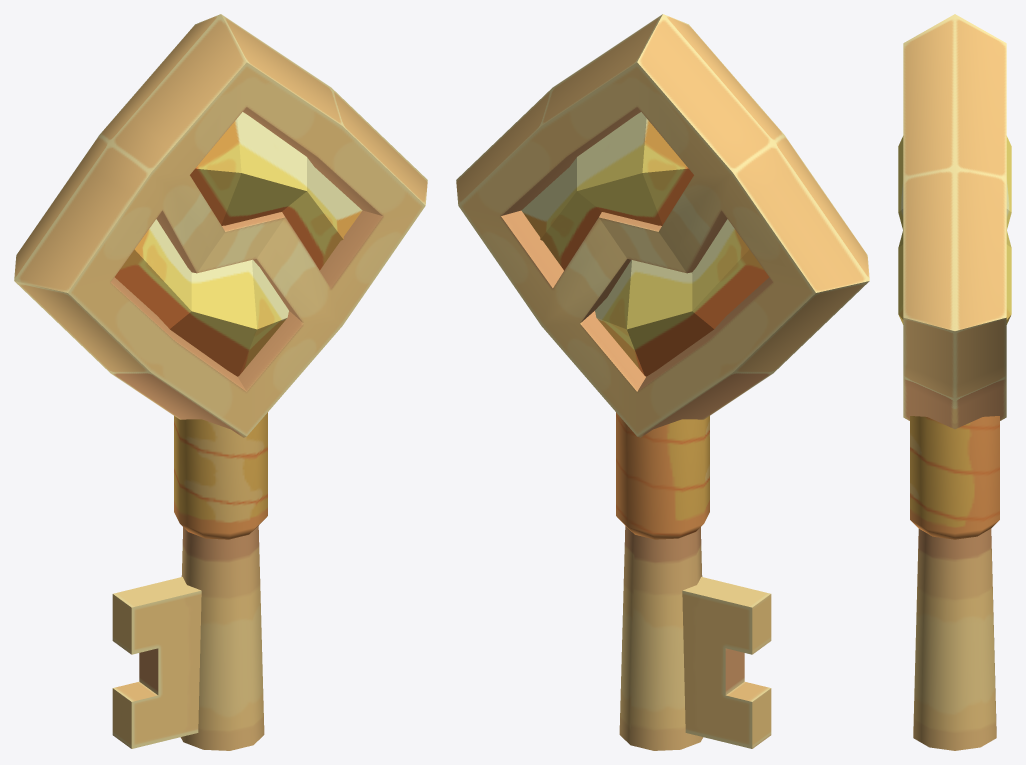
The model's file is bossKey_Desert_MESH.fbx.
3 views of the same model, side by side, from view 1: azimuth 30°, elevation 25°; view 2: azimuth 150°, elevation 25°; view 3: azimuth 270°, elevation 25° (orthographic).
Parts seen in each view (by area): view 1: bossKey_Desert_MESH; view 2: bossKey_Desert_MESH; view 3: bossKey_Desert_MESH.
Boxes of the visible parts, x1,y1,x2,y2 form: bossKey_Desert_MESH: (14, 14, 427, 750); bossKey_Desert_MESH: (456, 14, 869, 750); bossKey_Desert_MESH: (898, 14, 1011, 750).
Bounding box in the file's own units: 5.93 × 9.85 × 1.41.
